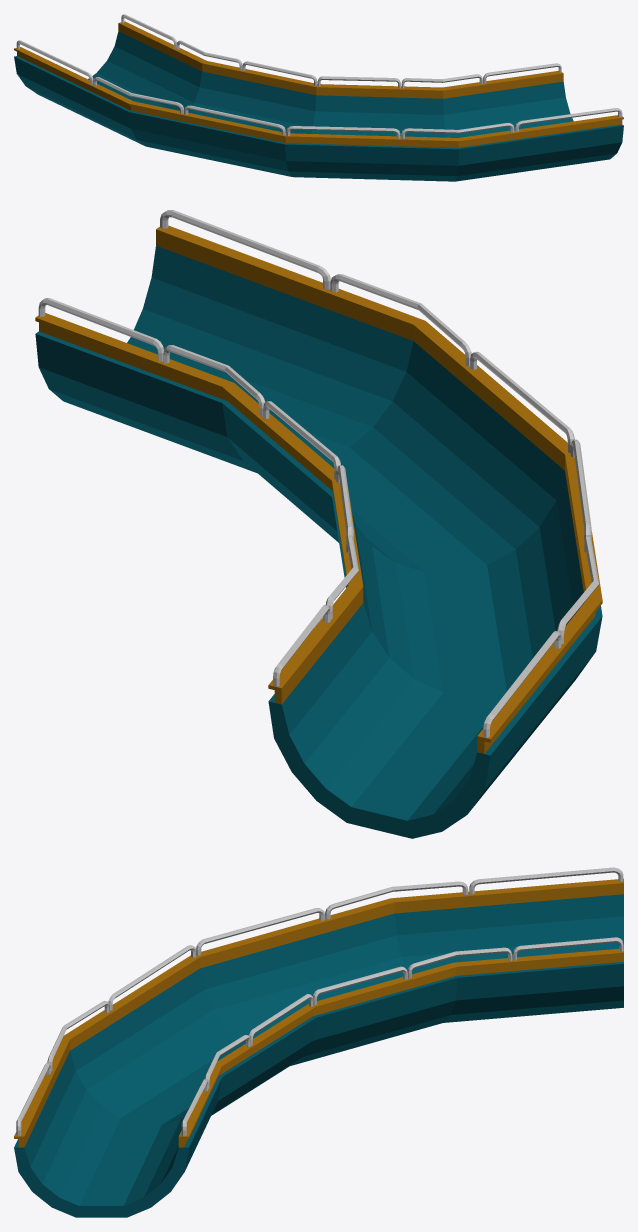
Rendered from halfpipe-curveLeft-90_l.FBX.
3 views of the same model, one above another, from view 1: azimuth 30°, elevation 25°; view 2: azimuth 150°, elevation 25°; view 3: azimuth 270°, elevation 25° (orthographic). The views are drawn at different scales.
Parts seen in each view (by area): view 1: halfpipe-curveLeft-90_l, wall_r, wall_l; view 2: halfpipe-curveLeft-90_l, wall_r, wall_l; view 3: halfpipe-curveLeft-90_l, wall_r, wall_l.
Part boxes in pixels (x1,y1,x2,y2): halfpipe-curveLeft-90_l: (14,31,623,181); wall_r: (14,40,623,147); wall_l: (118,14,563,98); halfpipe-curveLeft-90_l: (35,245,602,838); wall_r: (156,210,602,753); wall_l: (35,298,363,704); halfpipe-curveLeft-90_l: (14,894,623,1217); wall_r: (14,867,623,1147); wall_l: (178,937,623,1147).
Size of what is drawn, in the model's own units: 446 by 446 by 75.73.
